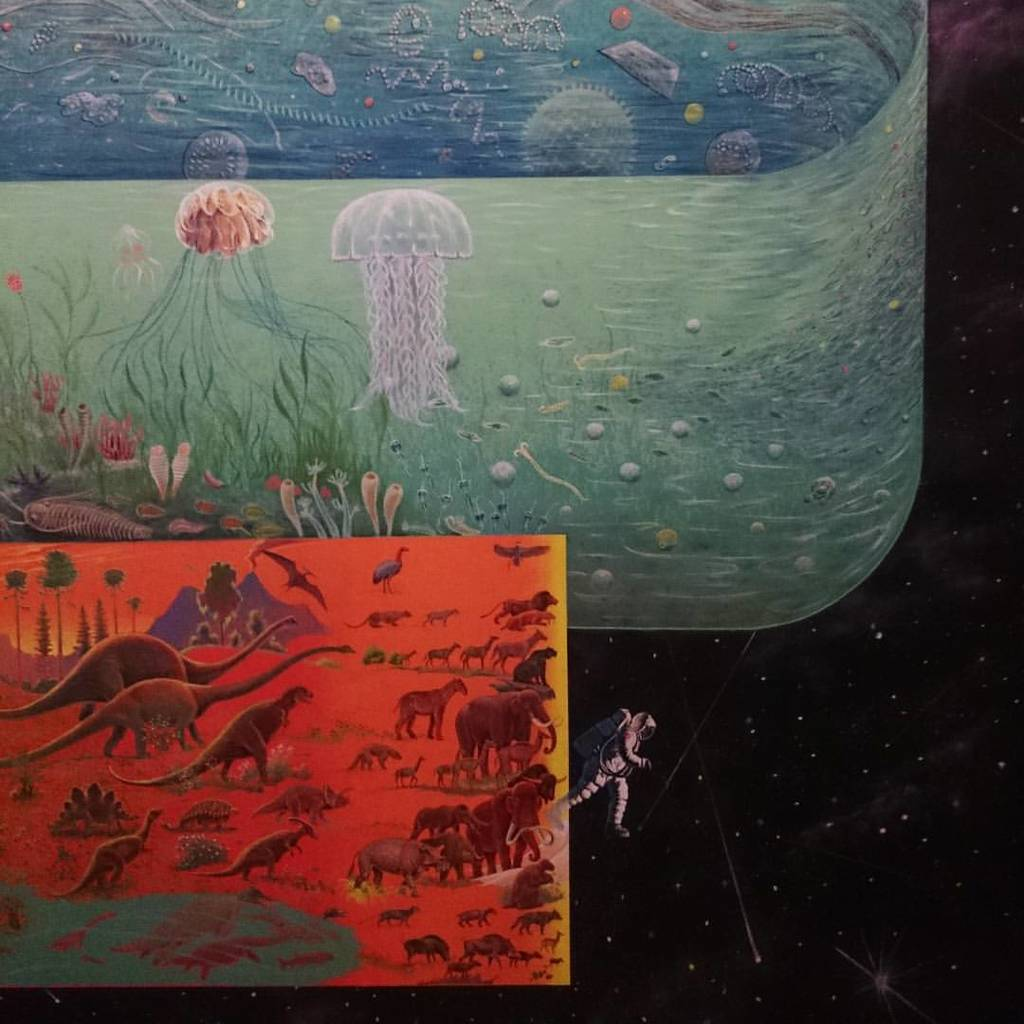Jellyfish: (79, 178, 390, 428), (332, 189, 472, 419)
